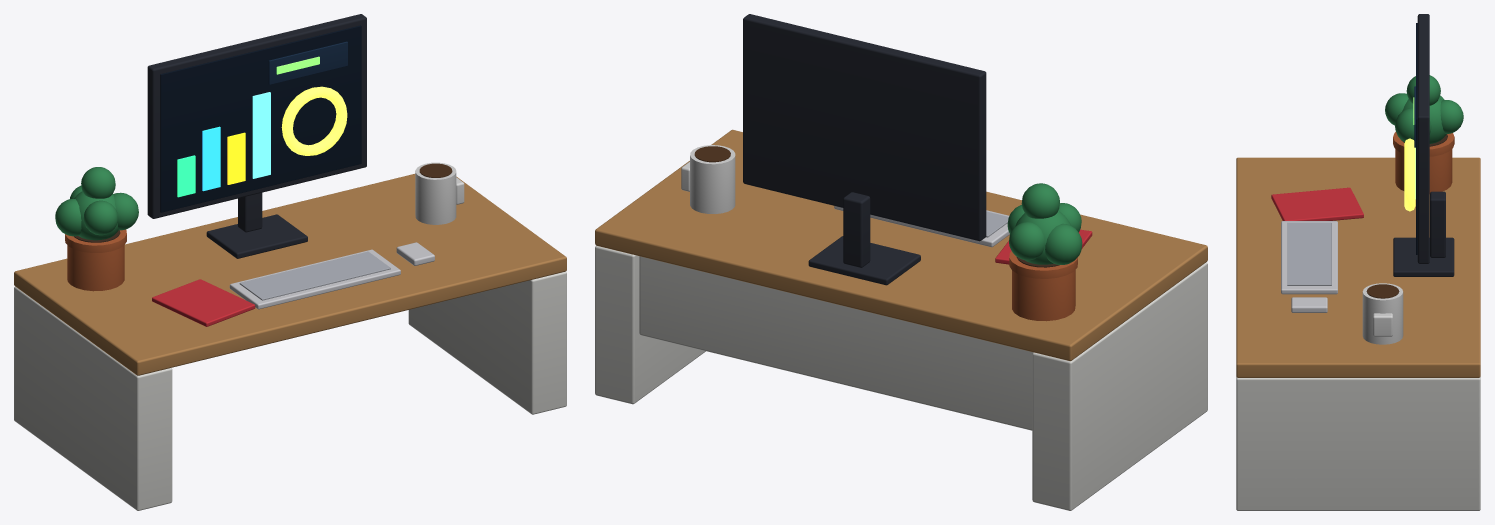
File: desk-setup.glb
3 views of the same model, side by side, from view 1: azimuth 30°, elevation 25°; view 2: azimuth 150°, elevation 25°; view 3: azimuth 270°, elevation 25° (orthographic). The views are drawn at different scales.
Parts seen in each view (by area): view 1: desk-setup-solid, desk-setup-glow (×5); view 2: desk-setup-solid; view 3: desk-setup-solid, desk-setup-glow.
Boxes of the visible parts, x1,y1,x2,y2 form: desk-setup-solid: [14, 14, 566, 510]; desk-setup-glow (×5): [177, 86, 347, 197]; desk-setup-solid: [595, 14, 1207, 510]; desk-setup-solid: [1236, 14, 1480, 510]; desk-setup-glow: [1404, 138, 1415, 211].
Size of the model in its own units: 0.9595 by 0.7424 by 0.4795.
